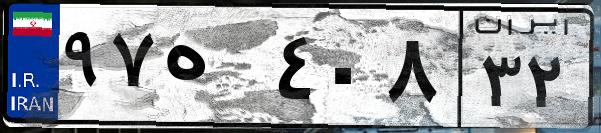0: (330, 28, 385, 110)
2: (525, 38, 570, 115)
3: (475, 38, 525, 113)
4: (270, 28, 330, 110)
7: (110, 28, 158, 98)
8: (385, 28, 445, 110)
9: (57, 26, 110, 100)
ه: (158, 20, 270, 120)
